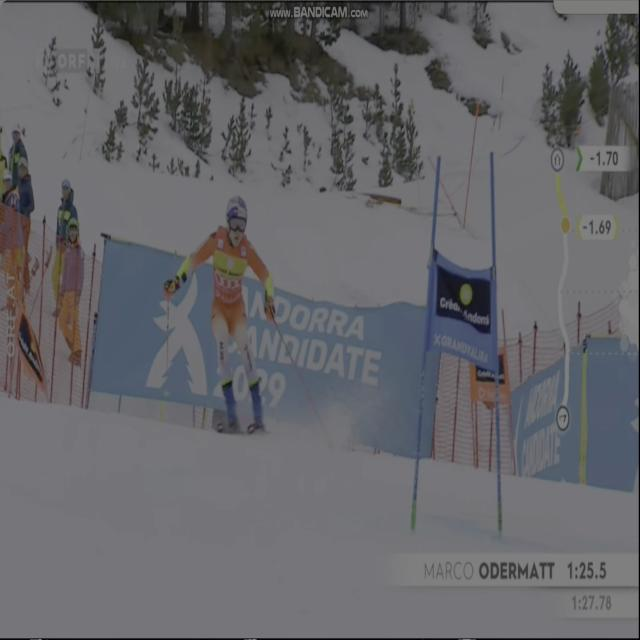gate: (404, 143, 449, 557), (472, 150, 510, 540)
